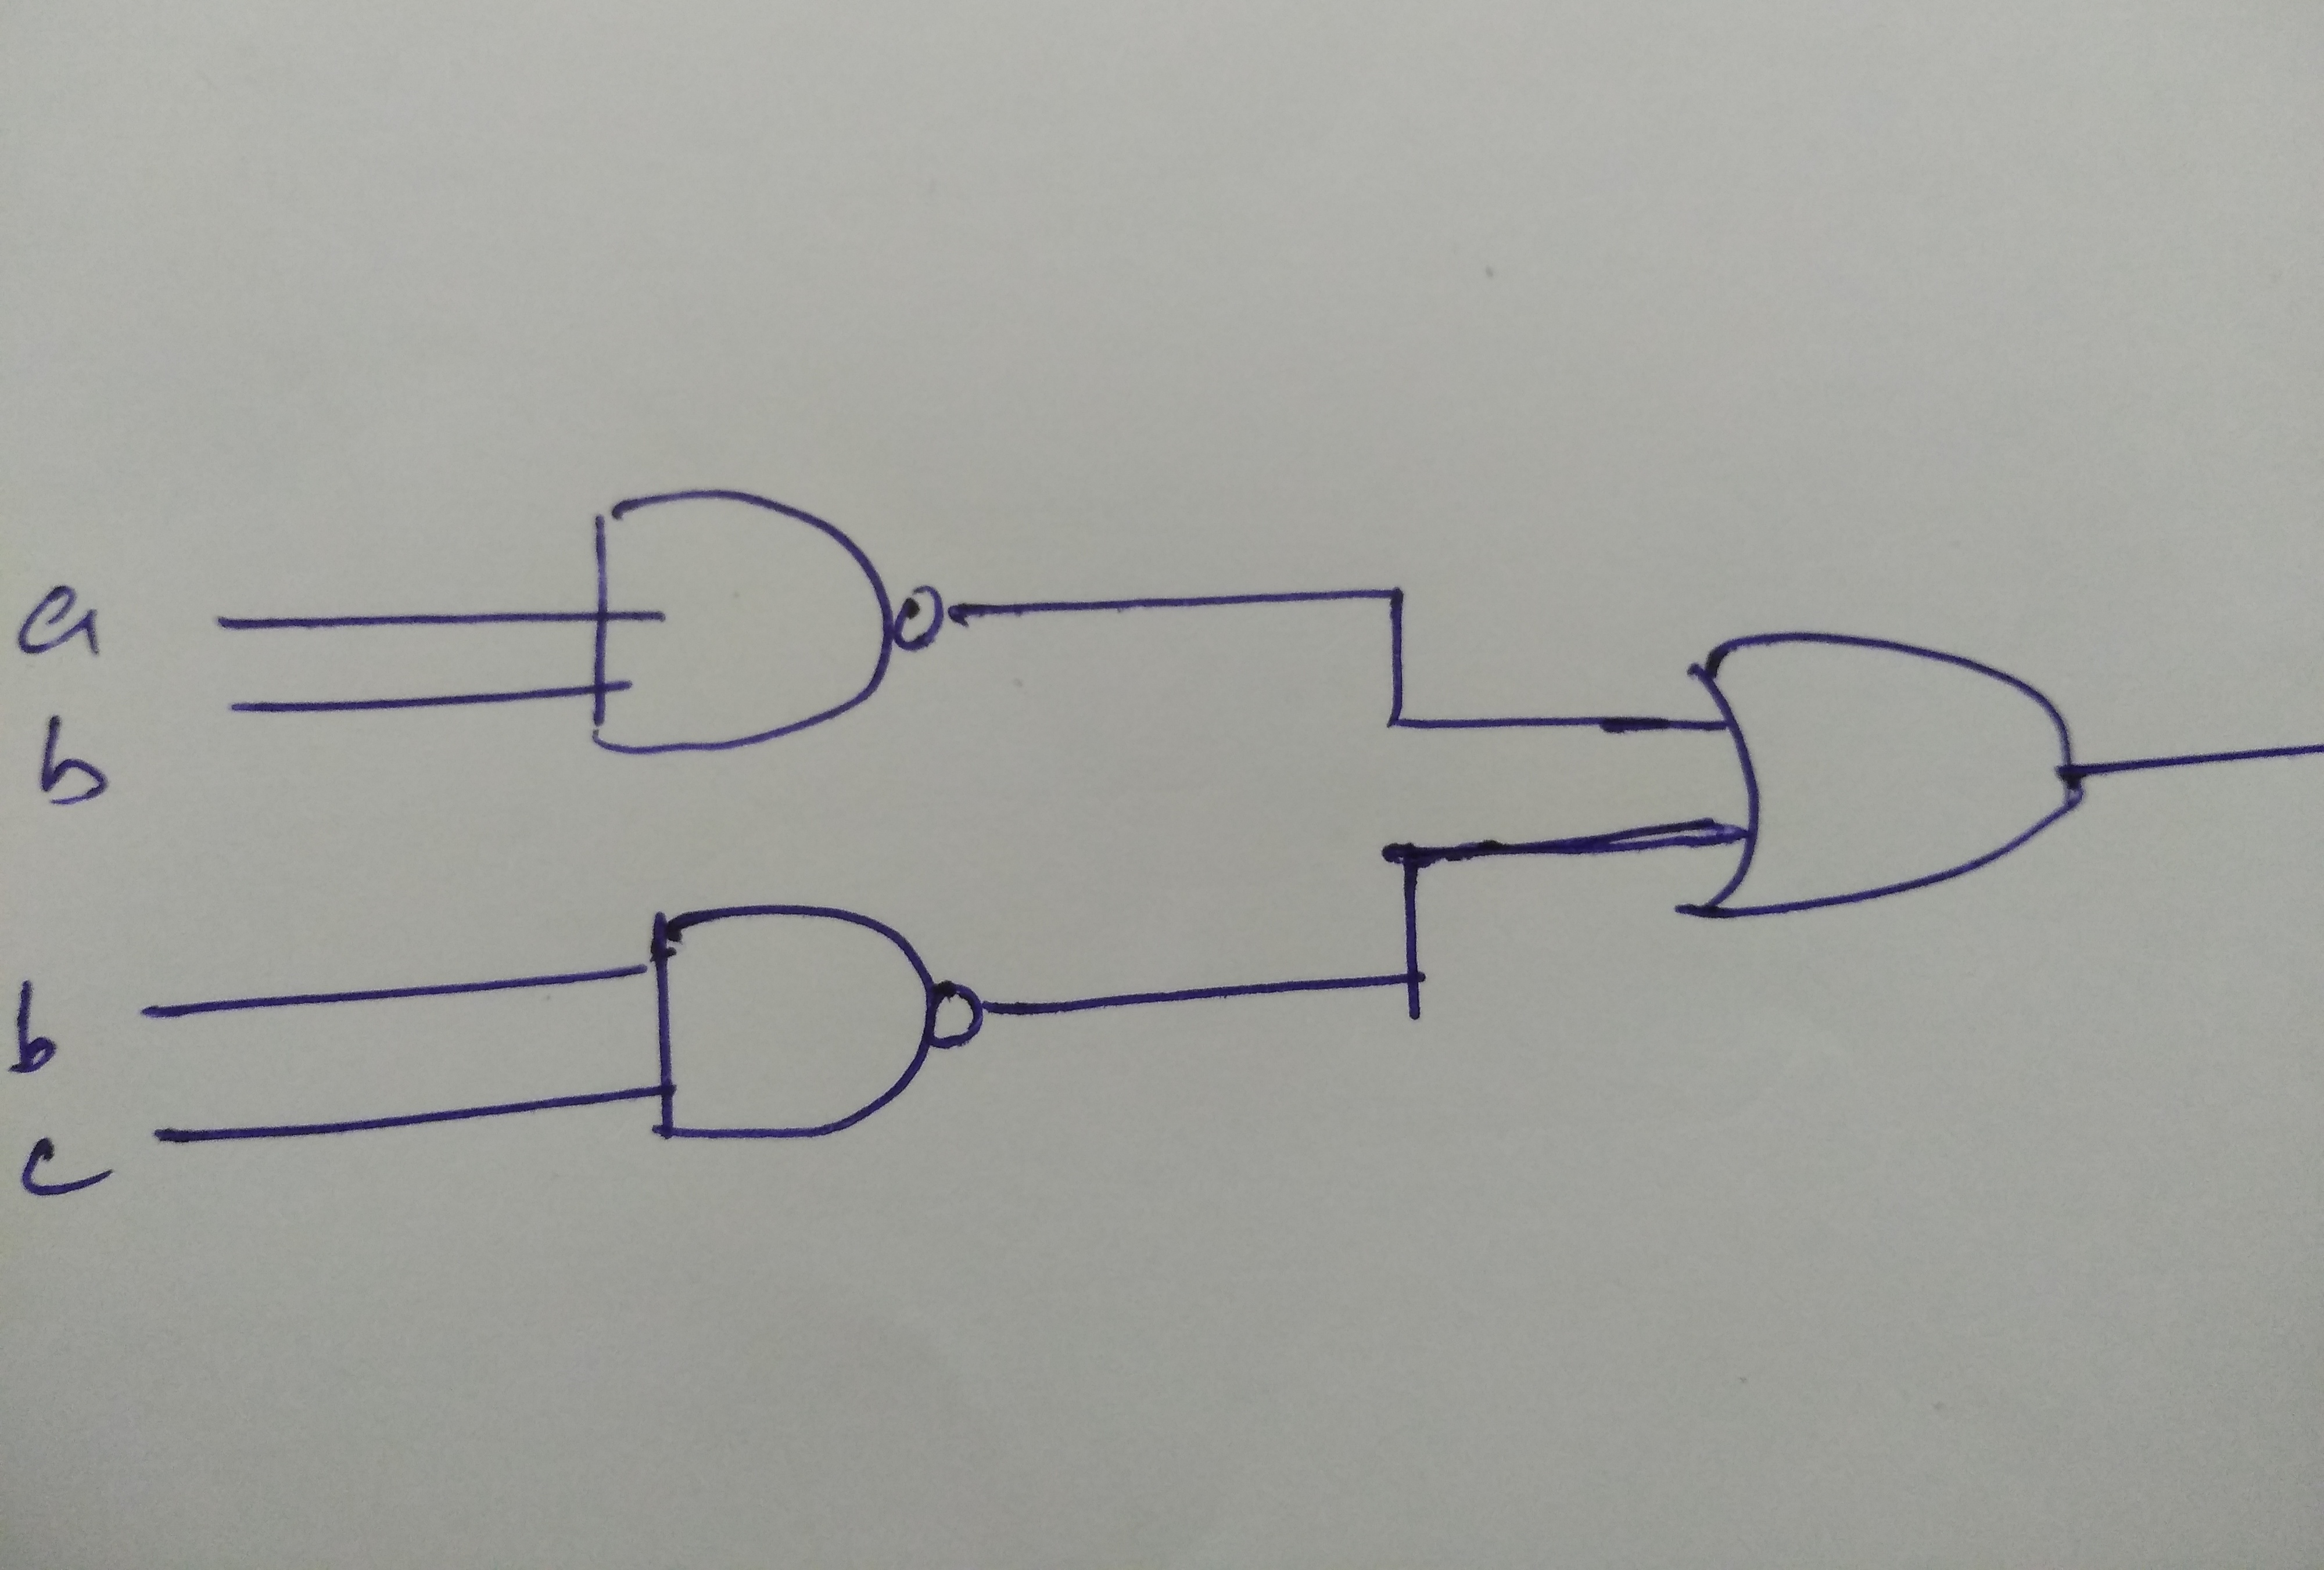nand: (514, 431, 1013, 804), (598, 855, 1046, 1195)
or: (1618, 568, 2159, 994)
